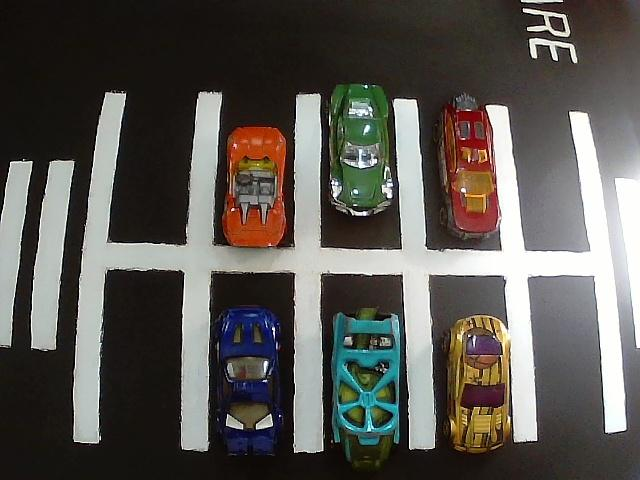Carro: (330, 309, 405, 477), (216, 305, 284, 460), (444, 315, 513, 456), (221, 127, 293, 250), (332, 84, 397, 218), (442, 95, 500, 241)
